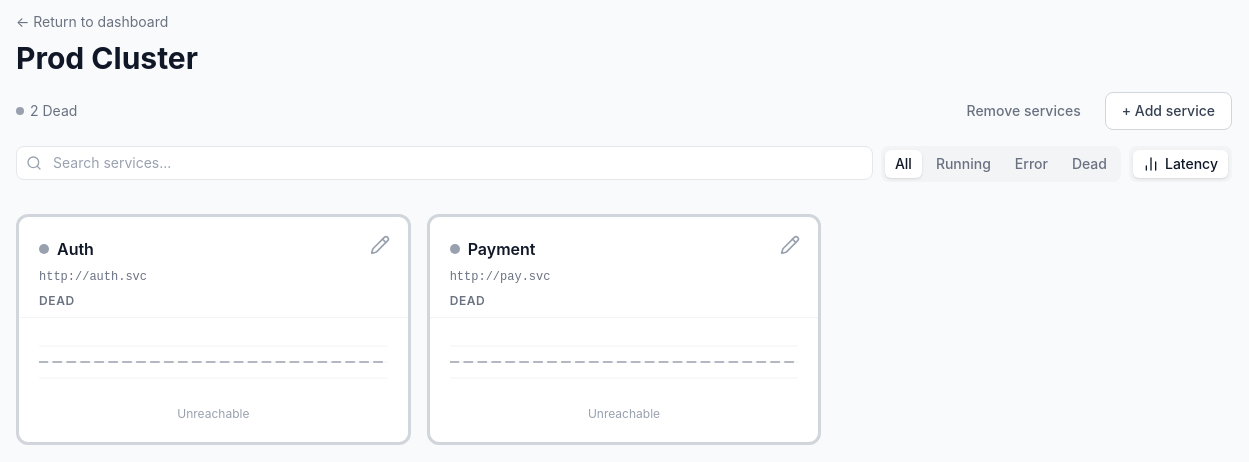
Test: ServiceDashboard › filters services by URL when searching
The width and height of the screenshot is (1249, 462).
expect the heading "Auth" is shown: met, box [57,237,94,261]
Type "pay.svc" into the search field with placeholder "Search services..." at [444, 163], box [16,146,873,180]
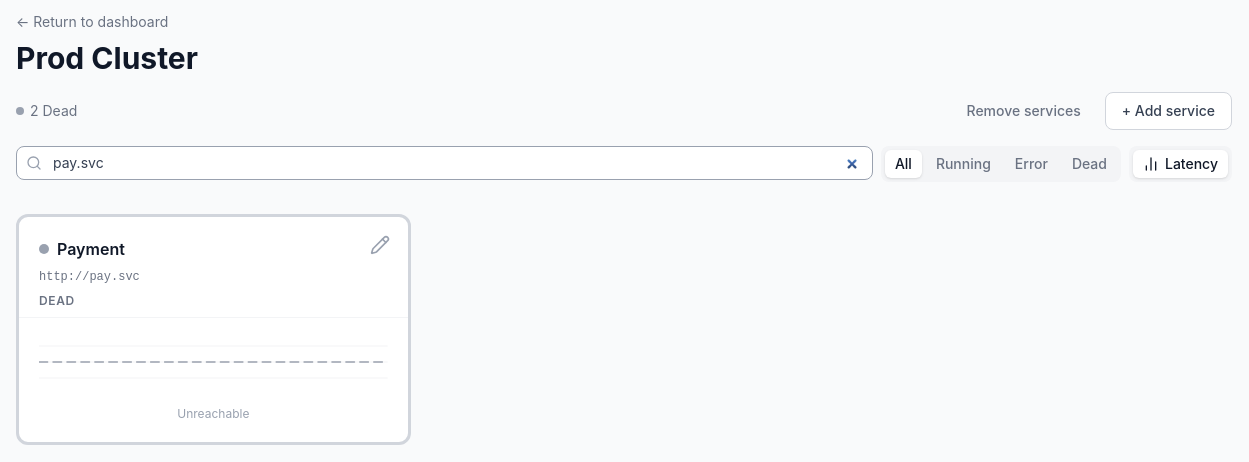
expect the heading "Payment" is shown: met, box [57,237,125,261]
expect the heading "Auth" is gone: met
